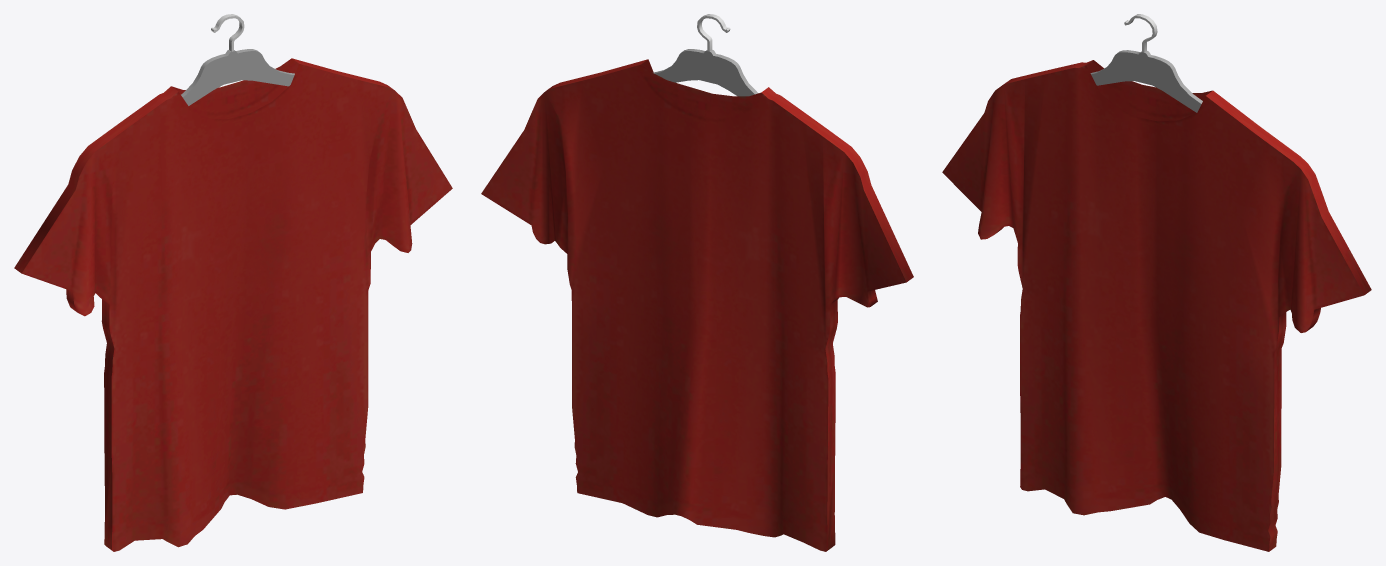
The model's file is TShirt_Hanging_Red.fbx.
3 views of the same model, side by side, from view 1: azimuth 30°, elevation 25°; view 2: azimuth 150°, elevation 25°; view 3: azimuth 330°, elevation 25° (orthographic).
Parts seen in each view (by area): view 1: TShirt, Hanger; view 2: TShirt, Hanger; view 3: TShirt, Hanger.
Part boxes in pixels (bbox=[...]): TShirt: bbox=[14, 58, 452, 551]; Hanger: bbox=[181, 49, 294, 105]; TShirt: bbox=[481, 59, 913, 551]; Hanger: bbox=[653, 49, 758, 96]; TShirt: bbox=[942, 60, 1371, 551]; Hanger: bbox=[1090, 50, 1202, 112].
Size of the model in its own units: 0.8189 by 0.9312 by 0.094.
